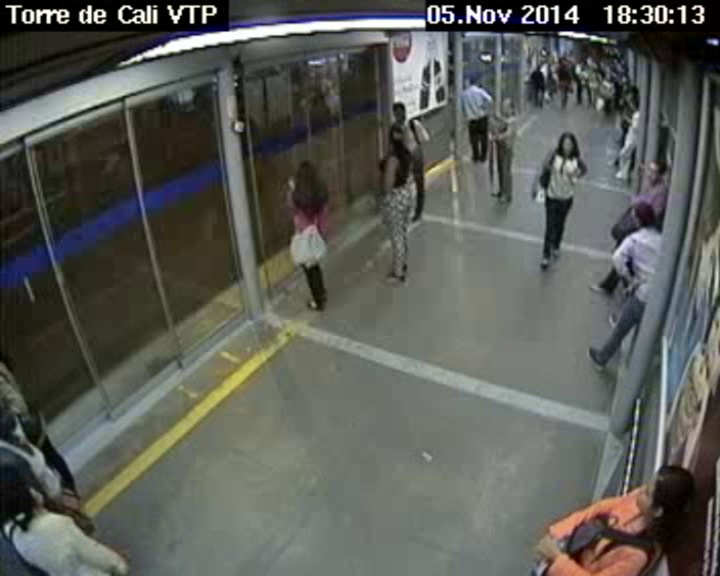person: (630, 459, 697, 536), (632, 198, 659, 236), (295, 157, 317, 195), (555, 127, 579, 159), (382, 124, 410, 151), (643, 155, 666, 185), (499, 96, 516, 117), (391, 99, 405, 120), (627, 95, 641, 113), (467, 73, 478, 87), (627, 87, 637, 99), (535, 65, 542, 74), (577, 59, 584, 68), (560, 61, 566, 69)
